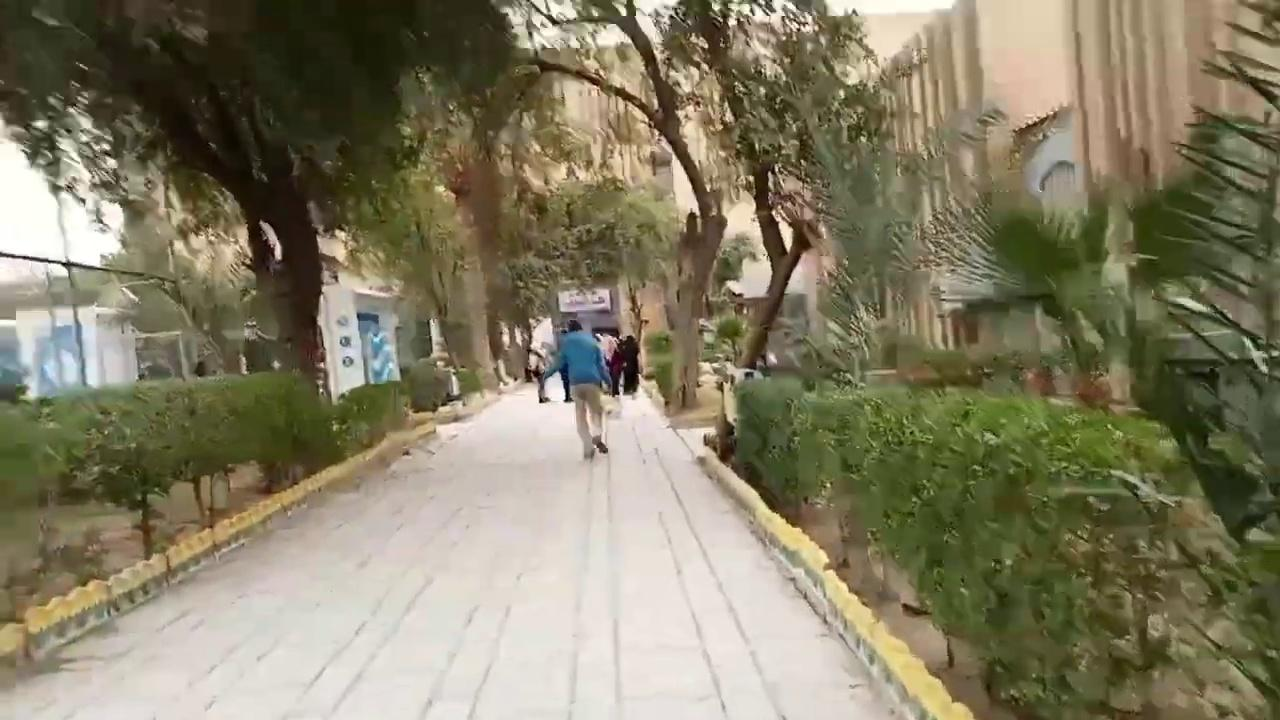person: (538, 318, 613, 460)
tree: (2, 0, 517, 404), (544, 0, 966, 421), (335, 50, 672, 398), (1127, 0, 1279, 549)
